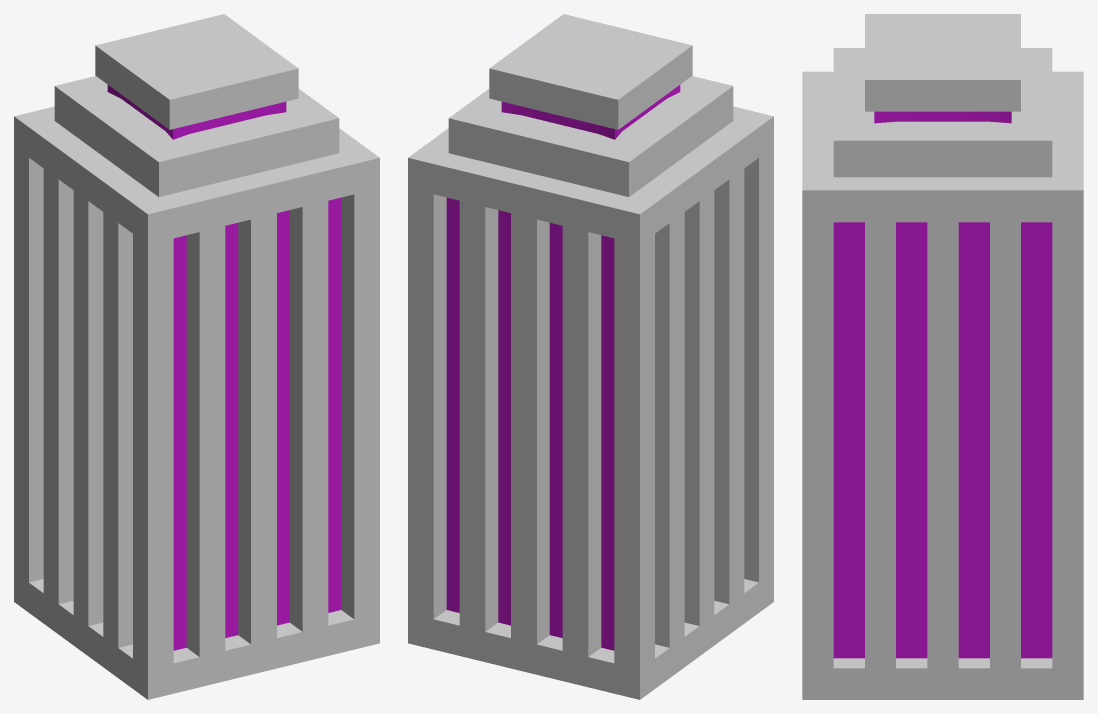
Rendered from SM_Building_06.fbx.
3 views of the same model, side by side, from view 1: azimuth 30°, elevation 25°; view 2: azimuth 150°, elevation 25°; view 3: azimuth 270°, elevation 25° (orthographic). The views are drawn at different scales.
Parts seen in each view (by area): view 1: building_08; view 2: building_08; view 3: building_08.
Part boxes in pixels (left/top/right/bottom): building_08: left=14, top=14, right=379, bottom=699; building_08: left=408, top=14, right=773, bottom=699; building_08: left=802, top=14, right=1083, bottom=699.
Size of the model in its own units: 8 by 18.64 by 8.
